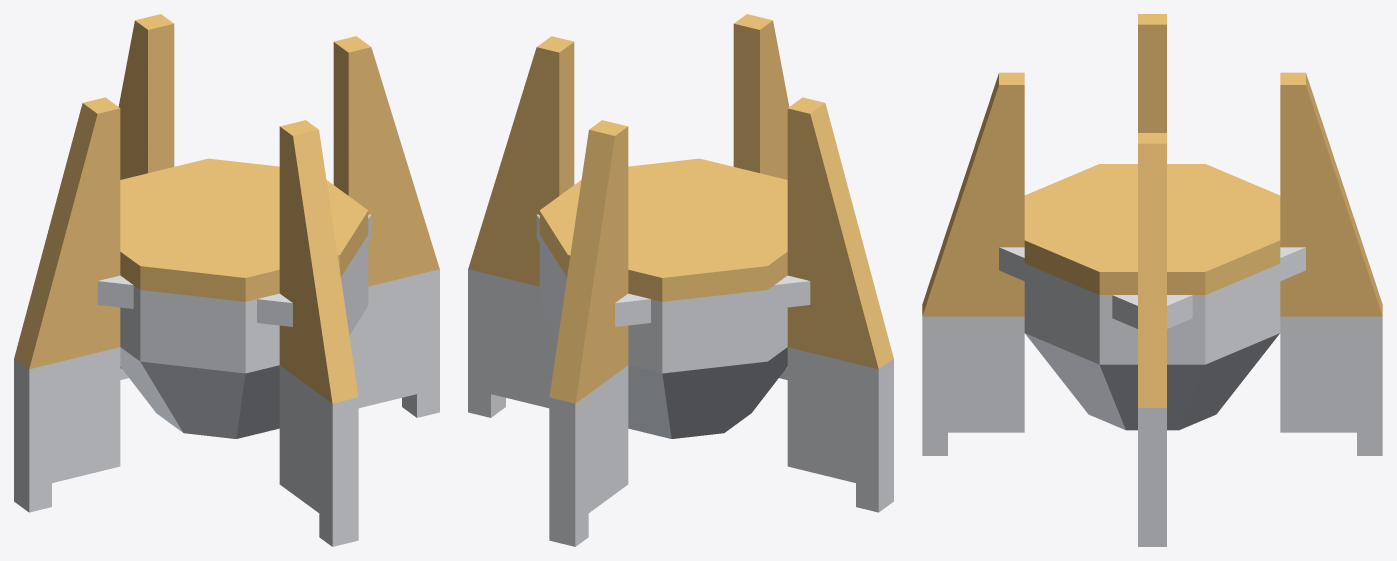
Rendered from rocket_baseA.glb.
3 views of the same model, side by side, from view 1: azimuth 30°, elevation 25°; view 2: azimuth 150°, elevation 25°; view 3: azimuth 270°, elevation 25° (orthographic). The views are drawn at different scales.
Parts seen in each view (by area): view 1: rocket_baseA; view 2: rocket_baseA; view 3: rocket_baseA.
Part boxes in pixels (x1=…): rocket_baseA: x1=14, y1=14, x2=439, y2=546; rocket_baseA: x1=468, y1=14, x2=893, y2=546; rocket_baseA: x1=922, y1=14, x2=1382, y2=546.
Size of the model in its own units: 1.8 by 1.6 by 1.8.
1 material, 1 textured.
